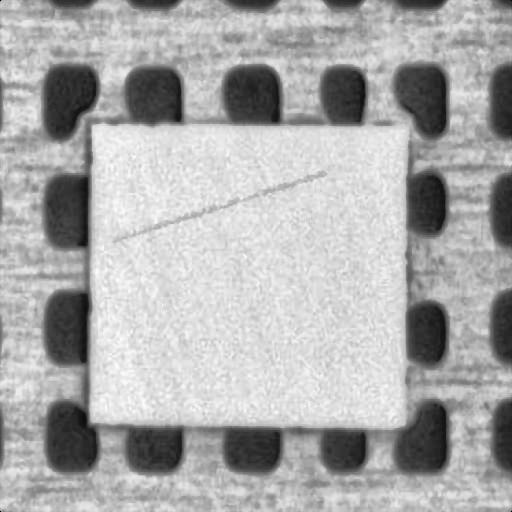DIE_CRACK: (148, 129, 432, 180)
